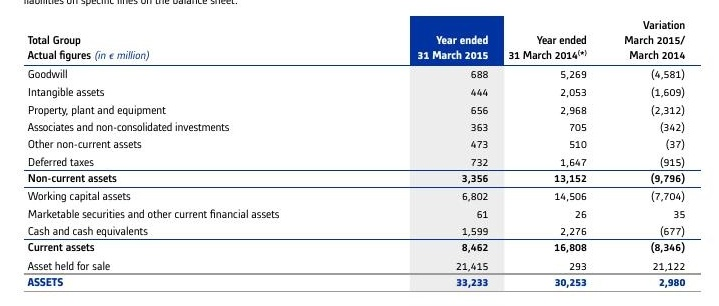table: (0, 0, 719, 306)
